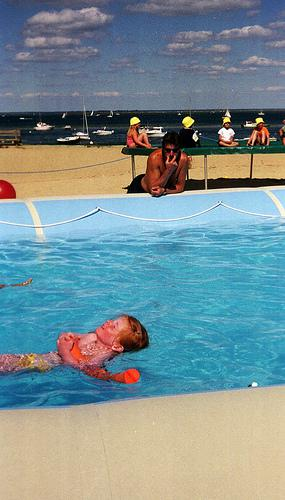swimmer: (0, 316, 149, 394)
